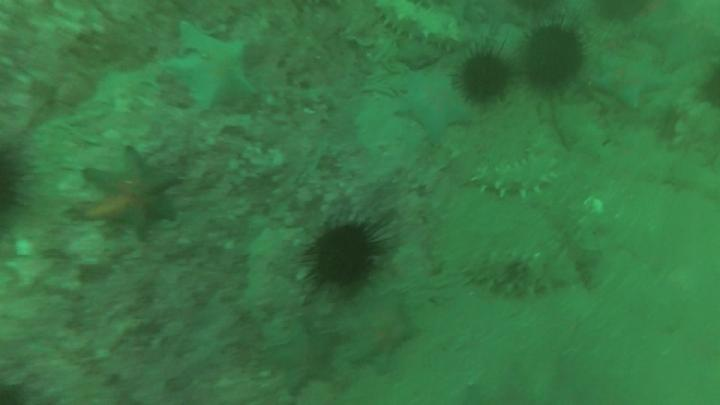echinus: (313, 226, 375, 285), (526, 26, 584, 86), (459, 51, 511, 97)
holothurian: (463, 246, 573, 299), (474, 135, 562, 199), (377, 1, 465, 49)
starfish: (80, 150, 180, 239), (168, 21, 259, 115), (342, 300, 416, 372), (398, 71, 472, 142), (275, 325, 341, 391), (599, 55, 668, 107)
